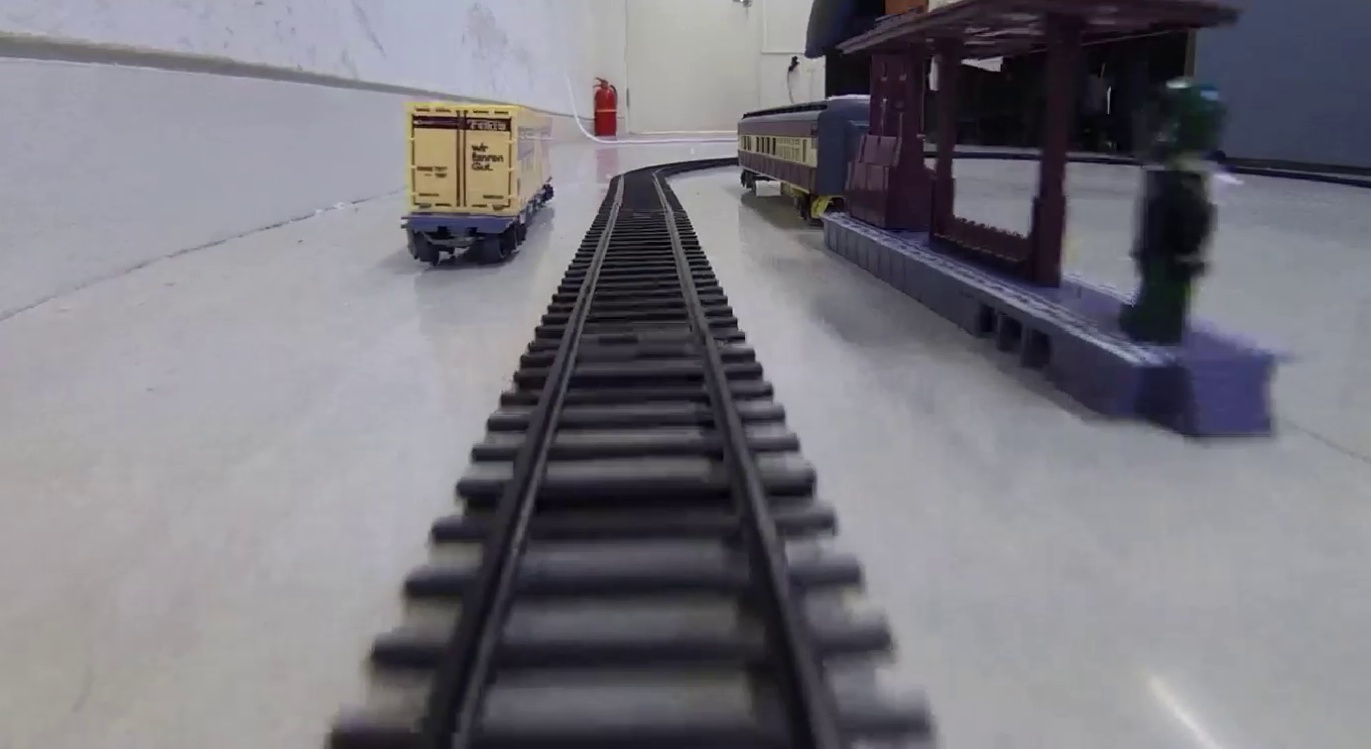people: (1122, 73, 1217, 344)
